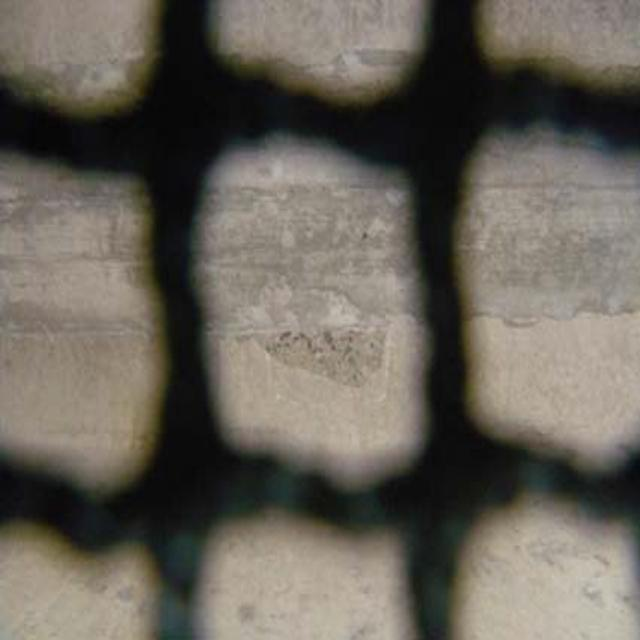spalling: (247, 273, 397, 407)
